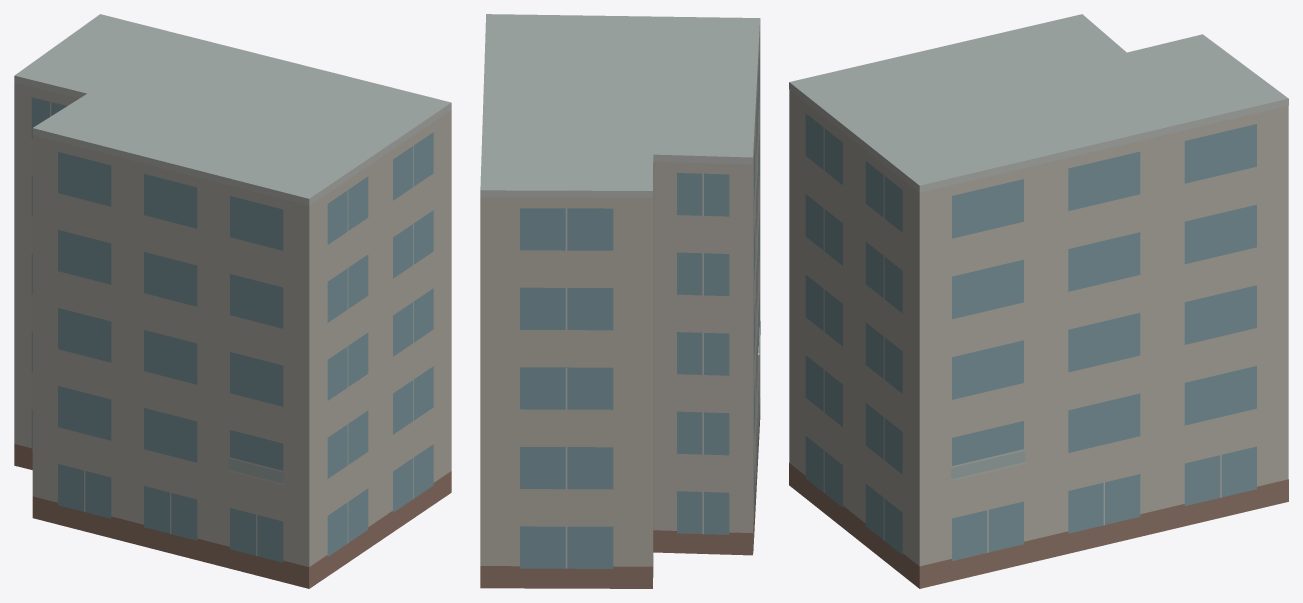
File: survey-upis-32869005.glb
3 views of the same model, side by side, from view 1: azimuth 30°, elevation 25°; view 2: azimuth 150°, elevation 25°; view 3: azimuth 270°, elevation 25° (orthographic). The views are drawn at different scales.
Parts seen in each view (by area): view 1: survey-upis-32869005.tmp; view 2: survey-upis-32869005.tmp; view 3: survey-upis-32869005.tmp.
Part boxes in pixels (x1,y1,x2,y2): survey-upis-32869005.tmp: [14, 14, 451, 588]; survey-upis-32869005.tmp: [480, 14, 760, 588]; survey-upis-32869005.tmp: [789, 14, 1288, 588].
Bounding box in the file's own units: 12.61 × 13.8 × 15.51.
